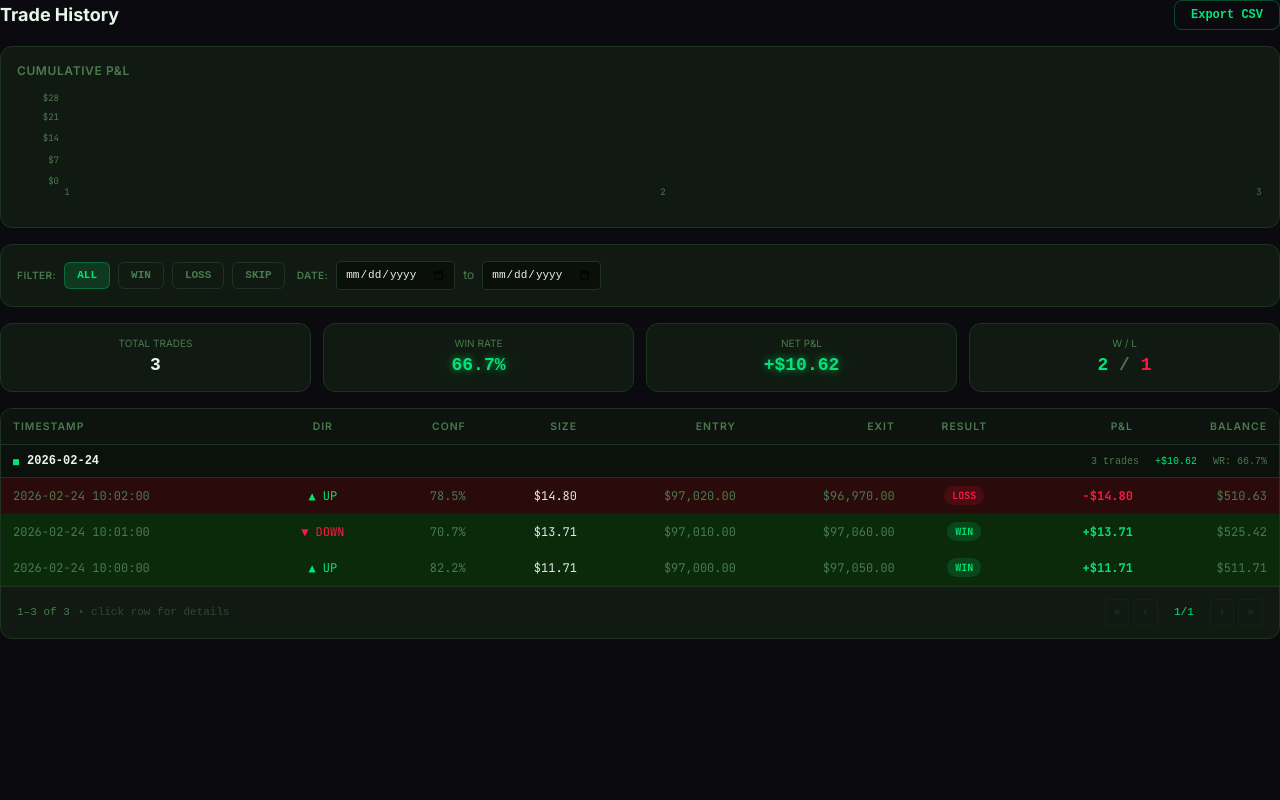
HistoryPage › trade detail modal › shows close button in modal
Click the row that starts with "LOSS".
click(640, 496)  # box top-left (1, 478), bottom-right (1279, 514)
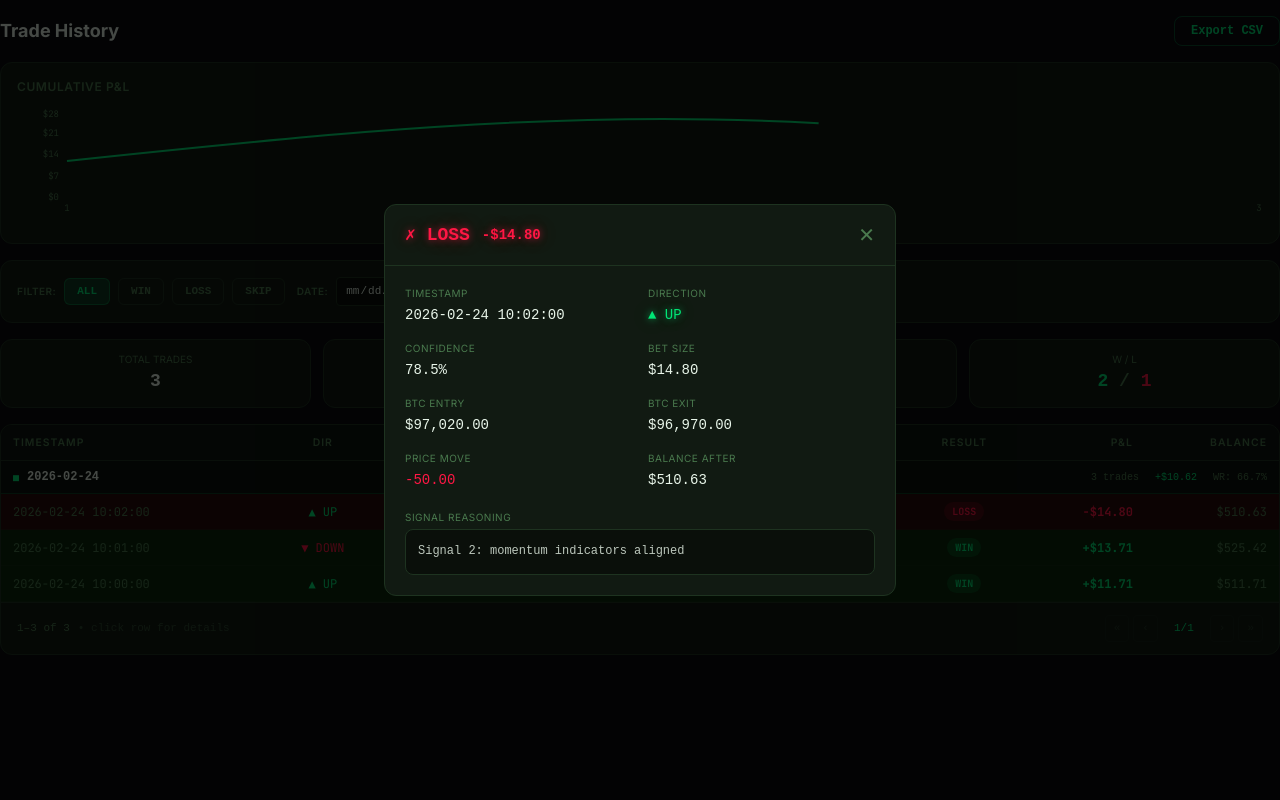
Expected: the button "✕" is shown, top-left (858, 225), bottom-right (875, 245)
